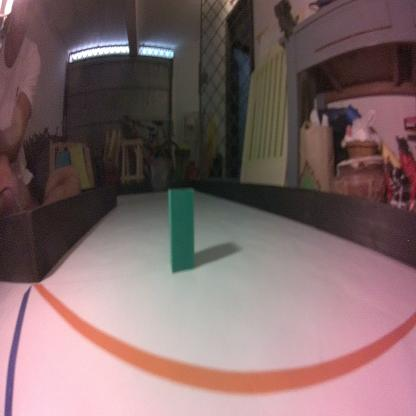green: (166, 185, 196, 277)
